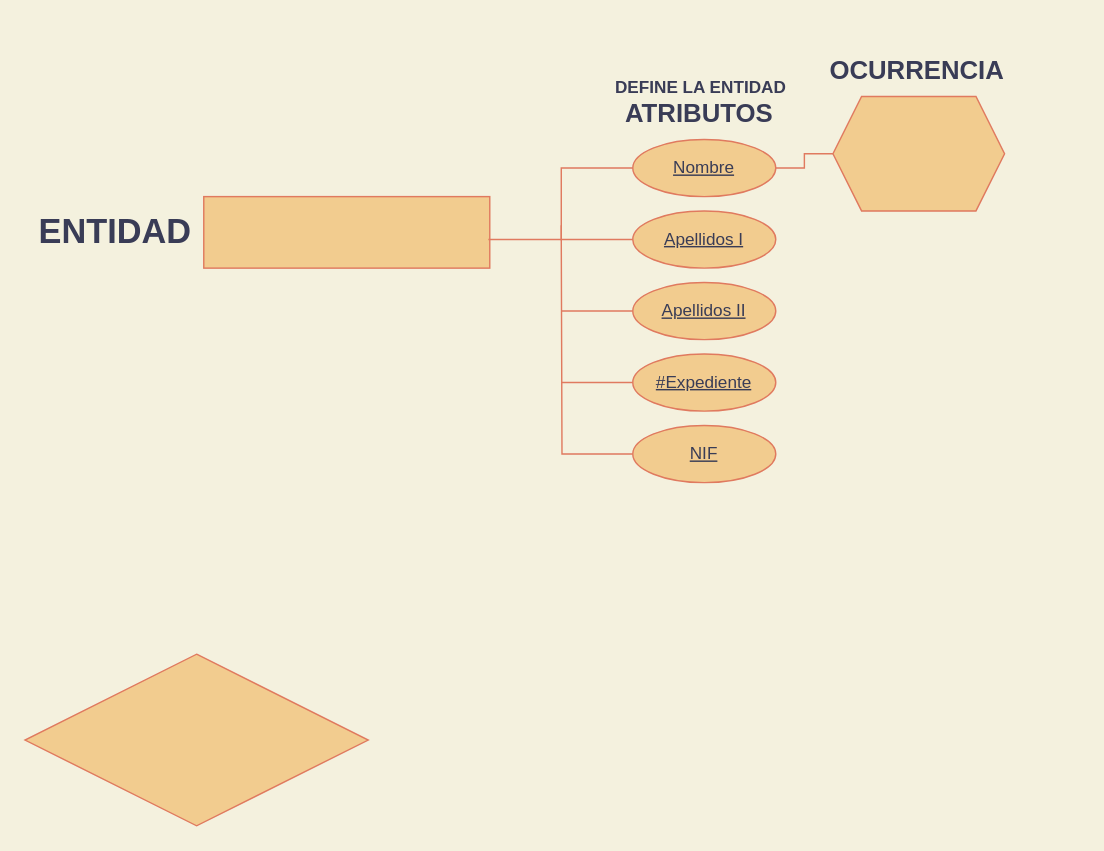
This 1104x851 diagram has some shape labels left out. The shapes that lost their labels are listed below. From the top down, each one's centre as x and y in pixels, then its label:
At (x=918, y=153): "MANUEL CARLOS HELENA...".
At (x=346, y=231): "ALUMNOS".
At (x=196, y=739): "RELACIÓNES".
